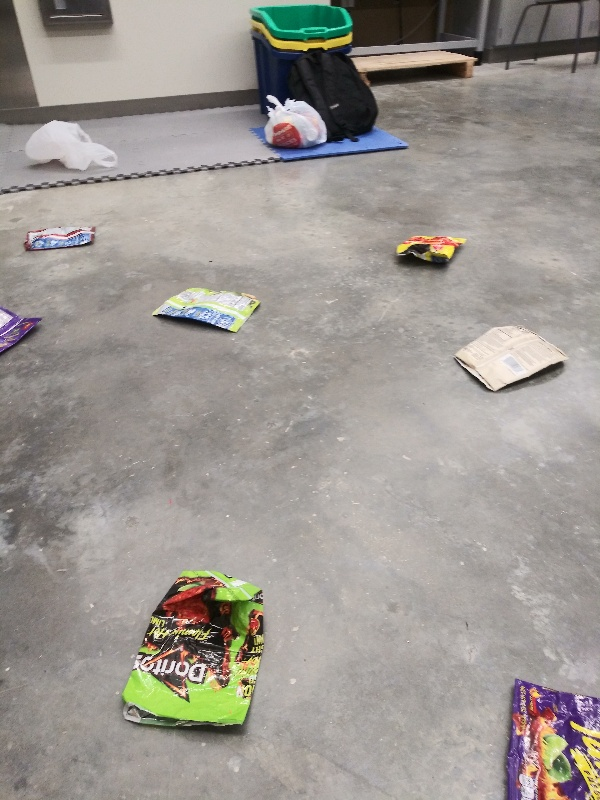bag: (119, 567, 268, 723), (506, 674, 599, 800), (453, 319, 574, 395), (148, 285, 267, 335), (391, 232, 469, 267), (1, 301, 45, 363), (21, 220, 100, 252)
